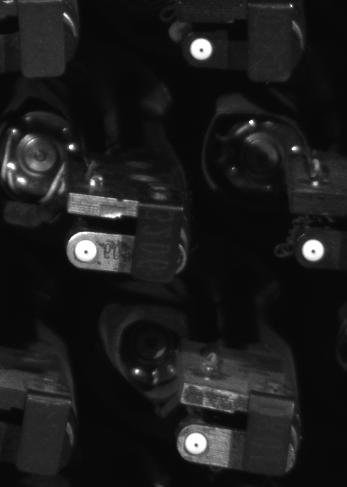fiber: (182, 33, 219, 64), (297, 236, 332, 265), (72, 235, 102, 268), (182, 428, 213, 458)
